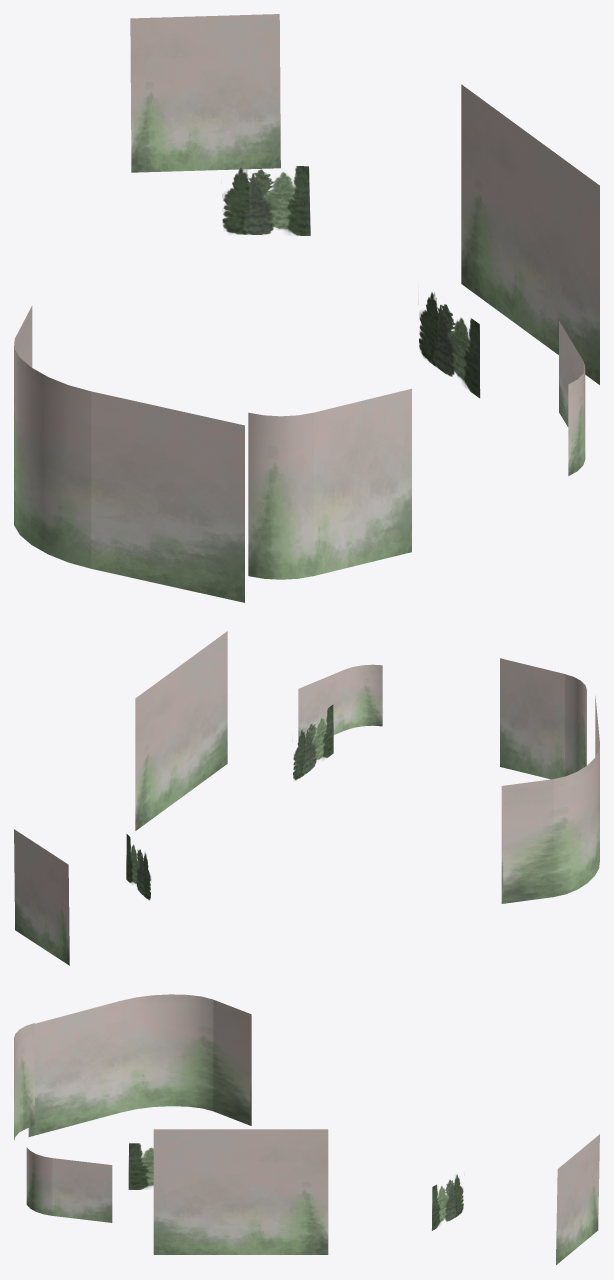
The model's file is atelier_exterieur.glb.
3 views of the same model, one above another, from view 1: azimuth 30°, elevation 25°; view 2: azimuth 150°, elevation 25°; view 3: azimuth 270°, elevation 25° (orthographic). The views are drawn at different scales.
Visible parts, largest first — view 1: exterieur01, exterieur04, exterieur00, exterieur03, exterieur08, exterieur05, exterieur02; view 2: exterieur04, exterieur01, exterieur00, exterieur03, exterieur02, exterieur05, exterieur08; view 3: exterieur01, exterieur04, exterieur02, exterieur03, exterieur00, exterieur08, exterieur05.
Boxes of the visible parts, <box> form: exterieur01: <box>14,305,244,602</box>; exterieur04: <box>461,84,599,384</box>; exterieur00: <box>248,388,411,579</box>; exterieur03: <box>130,14,280,172</box>; exterieur08: <box>222,165,310,235</box>; exterieur05: <box>418,292,480,398</box>; exterieur02: <box>559,321,585,475</box>; exterieur04: <box>135,631,227,830</box>; exterieur01: <box>501,696,599,903</box>; exterieur00: <box>500,658,586,779</box>; exterieur03: <box>14,829,69,965</box>; exterieur02: <box>298,664,382,741</box>; exterieur05: <box>292,704,333,780</box>; exterieur08: <box>126,834,151,900</box>; exterieur01: <box>28,994,251,1136</box>; exterieur04: <box>153,1129,328,1254</box>; exterieur02: <box>26,1147,112,1222</box>; exterieur03: <box>556,1134,599,1264</box>; exterieur00: <box>14,1023,34,1140</box>; exterieur08: <box>431,1174,464,1230</box>; exterieur05: <box>128,1143,153,1189</box>.
Bounding box in the file's own units: 23.19 × 9.34 × 33.64.
2 materials, 2 textured.
